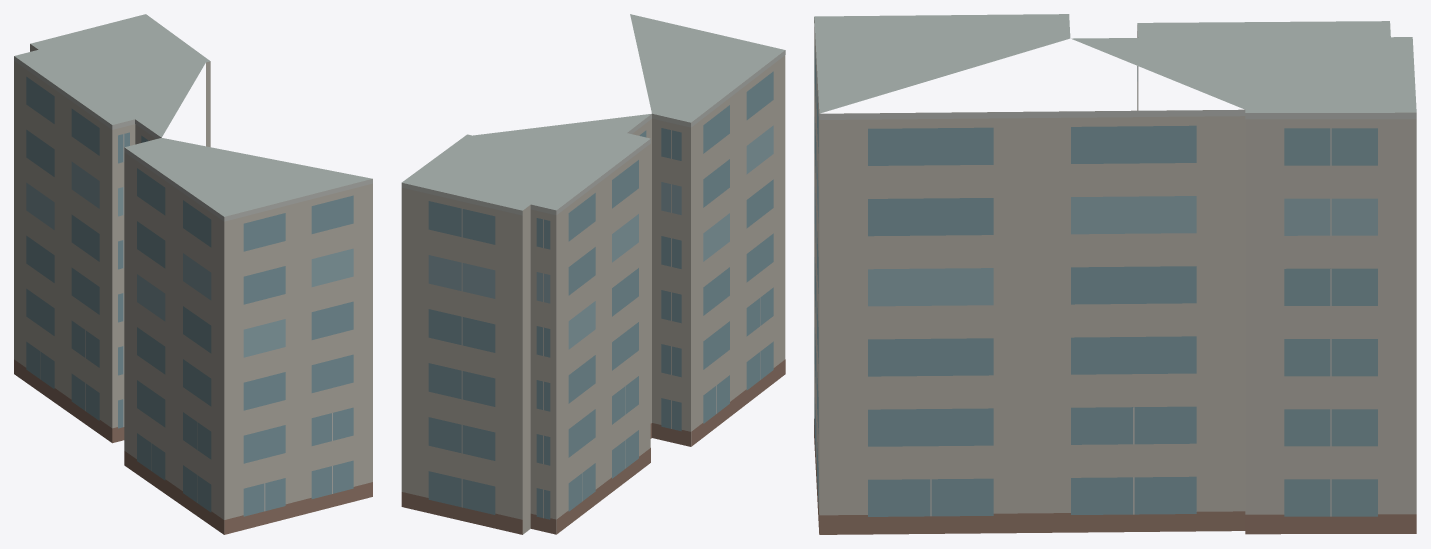
File: survey-upis-33036472.glb
3 renders of one model, left to right at view 1: azimuth 30°, elevation 25°; view 2: azimuth 150°, elevation 25°; view 3: azimuth 270°, elevation 25°, orthographic. The views are drawn at different scales.
Visible parts, largest first — view 1: survey-upis-33036472.tmp; view 2: survey-upis-33036472.tmp; view 3: survey-upis-33036472.tmp.
Part boxes in pixels (<box>): survey-upis-33036472.tmp: <box>14,14,372,534</box>; survey-upis-33036472.tmp: <box>401,14,785,534</box>; survey-upis-33036472.tmp: <box>814,14,1416,534</box>.
Size of the model in its own units: 8.18 by 16.1 by 20.88.
